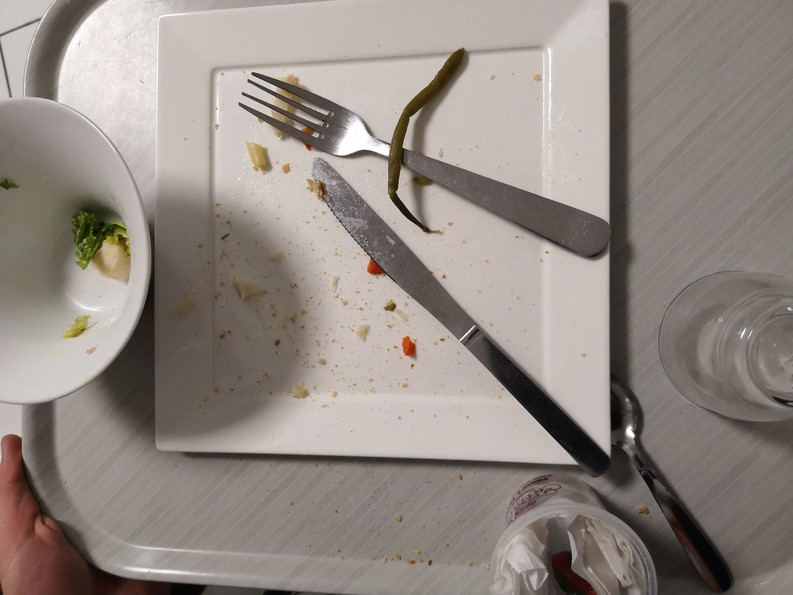cup: (649, 260, 793, 433)
cutlery: (300, 154, 617, 479), (231, 67, 630, 253), (601, 388, 737, 595)
orga: (63, 193, 145, 285)
trash: (495, 466, 660, 595)
